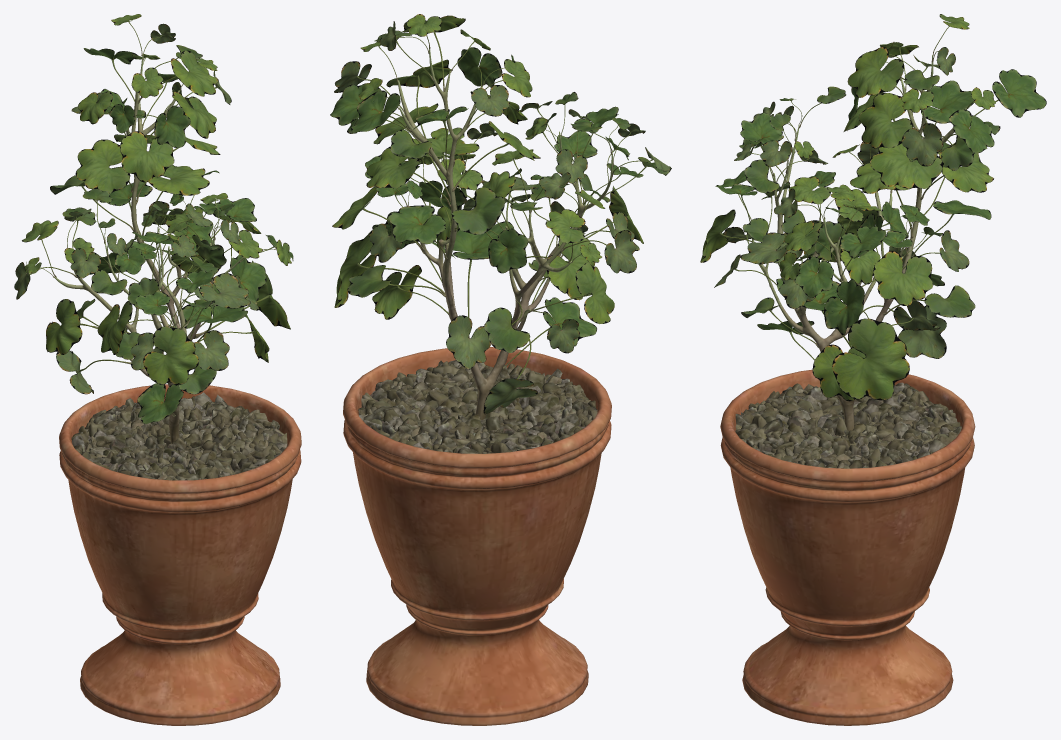
The model's file is potted_plant_01.glb.
3 views of the same model, side by side, from view 1: azimuth 30°, elevation 25°; view 2: azimuth 150°, elevation 25°; view 3: azimuth 270°, elevation 25° (orthographic). The views are drawn at different scales.
Visible parts, largest first — view 1: potted_plant_01_pot, potted_plant_01_leaves, potted_plant_01_pebbles, potted_plant_01_stem; view 2: potted_plant_01_pot, potted_plant_01_leaves, potted_plant_01_pebbles, potted_plant_01_stem; view 3: potted_plant_01_pot, potted_plant_01_leaves, potted_plant_01_pebbles, potted_plant_01_stem.
Part boxes in pixels (left/top/right/bottom): potted_plant_01_pot: left=59, top=384, right=301, bottom=725; potted_plant_01_leaves: left=14, top=14, right=293, bottom=423; potted_plant_01_pebbles: left=71, top=392, right=287, bottom=480; potted_plant_01_stem: left=53, top=54, right=244, bottom=443; potted_plant_01_pot: left=343, top=347, right=611, bottom=725; potted_plant_01_leaves: left=330, top=14, right=671, bottom=414; potted_plant_01_pebbles: left=358, top=360, right=597, bottom=453; potted_plant_01_stem: left=397, top=49, right=612, bottom=420; potted_plant_01_pot: left=720, top=369, right=975, bottom=725; potted_plant_01_leaves: left=700, top=14, right=1046, bottom=401; potted_plant_01_pebbles: left=735, top=382, right=961, bottom=468; potted_plant_01_stem: left=751, top=55, right=966, bottom=431.
Size of the model in its own units: 0.5874 by 1.34 by 0.6336.
Materials: 2 (2 with a texture image).
